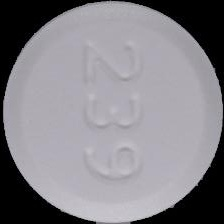35356-774: (0, 0, 224, 224)
